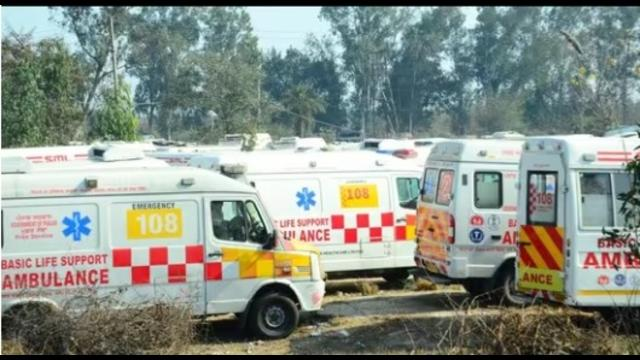ambulance: (185, 150, 421, 283), (516, 134, 640, 327), (414, 139, 524, 302)
